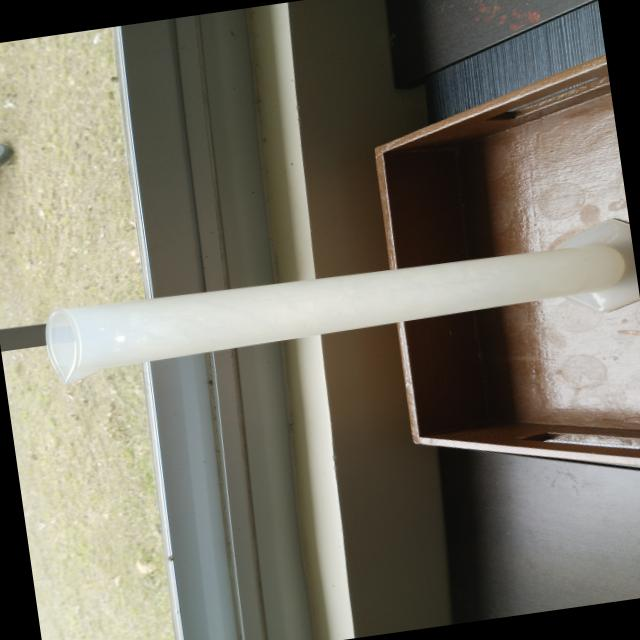graduated_cylinder: (34, 212, 640, 397)
